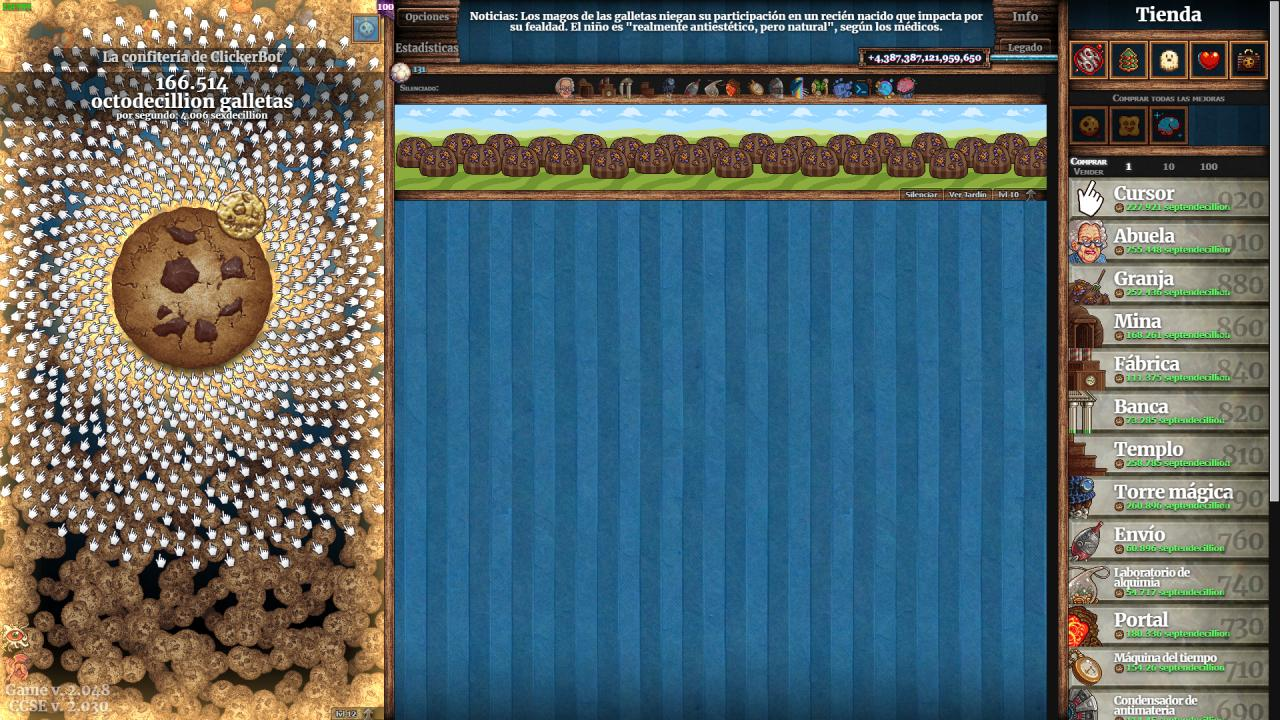GoldenCookie: (215, 191, 267, 241)
